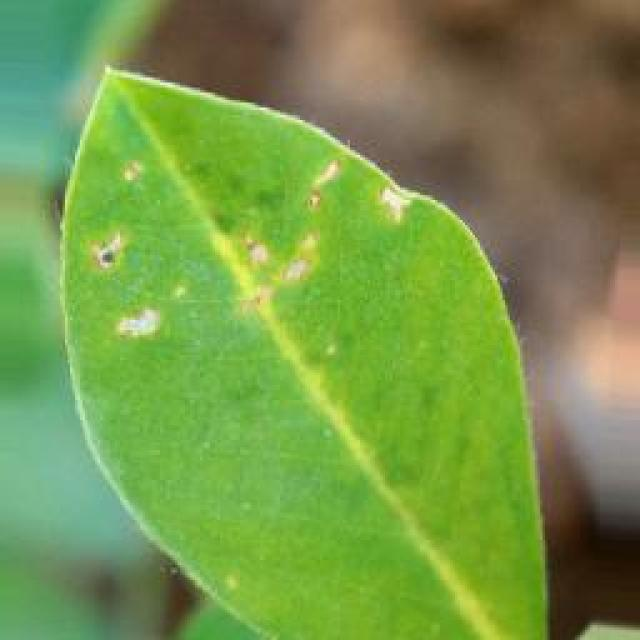Yellow_and_black_sigatoka: (58, 61, 573, 640)
